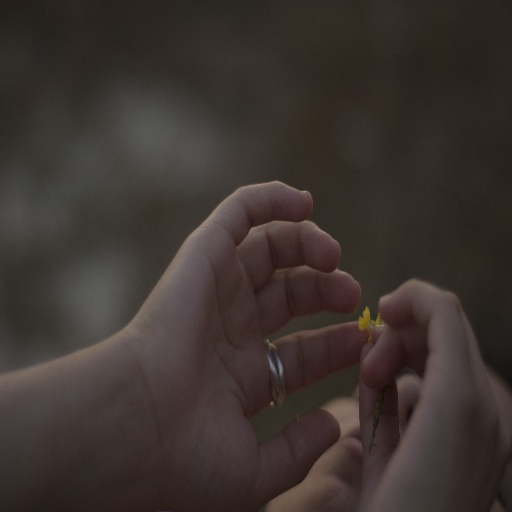hand: (21, 190, 389, 498), (357, 277, 511, 511)
